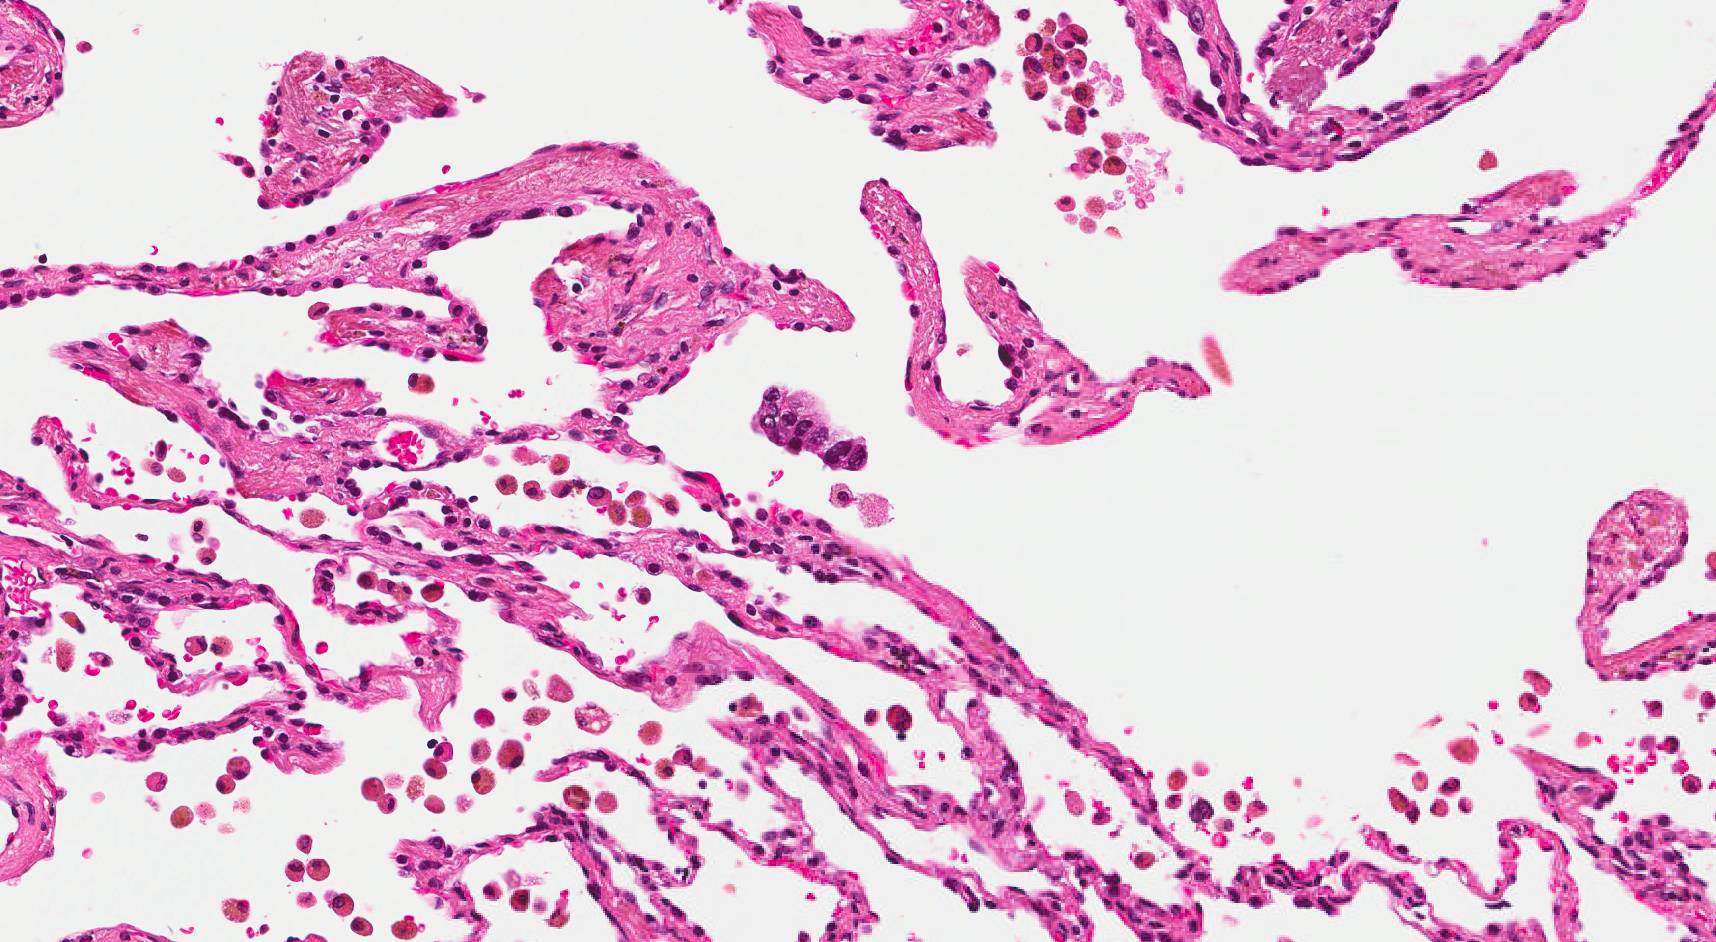stas: (749, 387, 871, 472)
